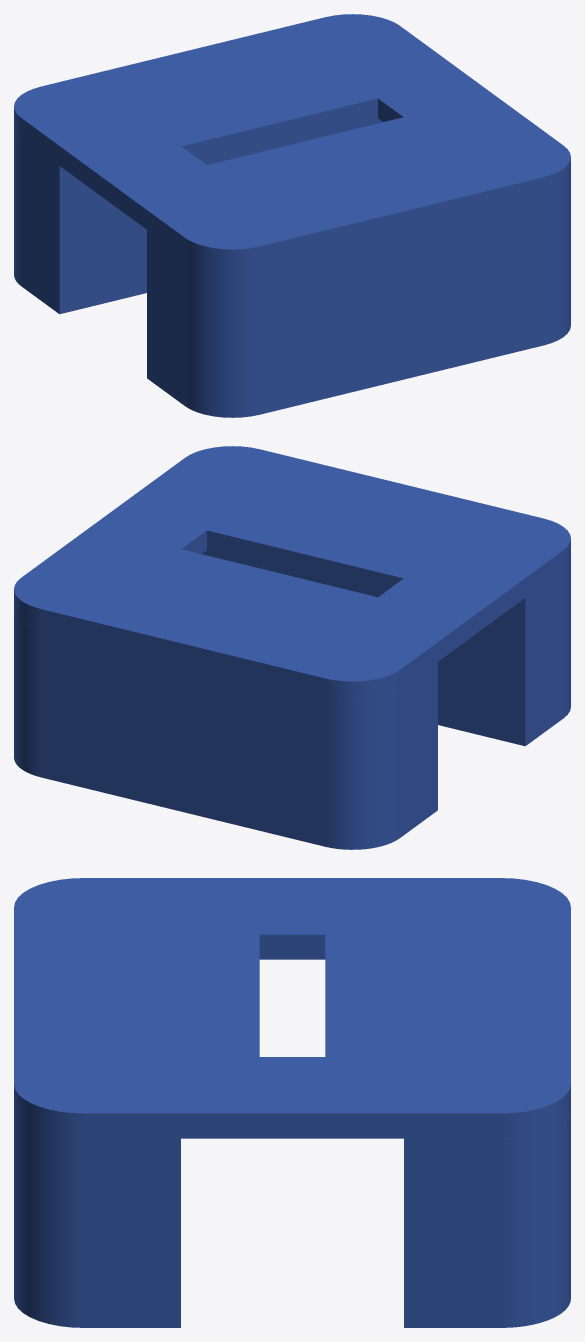
File: implant_holder.dae
3 views of the same model, one above another, from view 1: azimuth 30°, elevation 25°; view 2: azimuth 150°, elevation 25°; view 3: azimuth 270°, elevation 25° (orthographic). The views are drawn at different scales.
Parts seen in each view (by area): view 1: central_support_base, central_support_leg (×2); view 2: central_support_base, central_support_leg (×2); view 3: central_support_base, central_support_leg (×2).
Boxes of the visible parts, x1,y1,x2,y2 form: central_support_base: (14,14,570,269); central_support_leg (×2): (14,118,570,417); central_support_base: (14,446,570,701); central_support_leg (×2): (14,550,570,849); central_support_base: (14,878,570,1138); central_support_leg (×2): (14,1110,570,1327).
Size of the model in its own units: 0.04 by 0.04 by 0.017.
